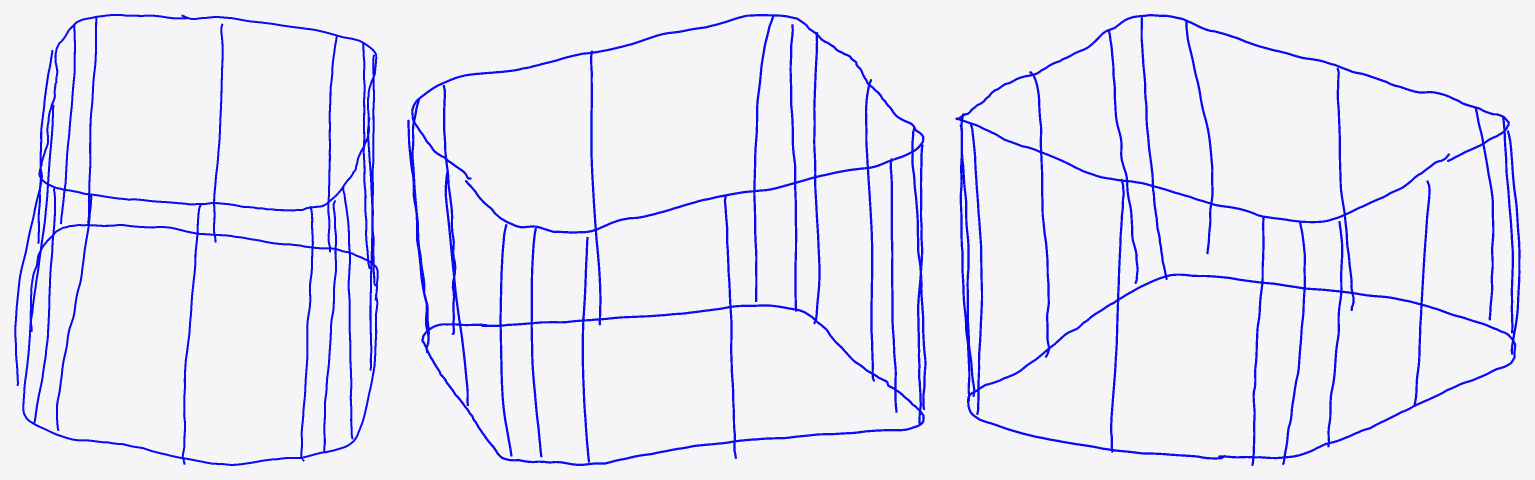
Rendered from scaffold_sketch_P2_tutorial.glb.
The picture shows the model from 3 angles, left to right: view 1: azimuth 30°, elevation 25°; view 2: azimuth 150°, elevation 25°; view 3: azimuth 270°, elevation 25°; orthographic projection. The views are drawn at different scales.
Visible parts, largest first — view 1: scaffold_sketch_P2_tutorial; view 2: scaffold_sketch_P2_tutorial; view 3: scaffold_sketch_P2_tutorial.
Boxes of the visible parts, bbox=[...] form: scaffold_sketch_P2_tutorial: bbox=[14, 14, 378, 465]; scaffold_sketch_P2_tutorial: bbox=[407, 14, 926, 465]; scaffold_sketch_P2_tutorial: bbox=[955, 14, 1520, 465].
Size of the model in its own units: 0.9002 by 0.5961 by 1.
